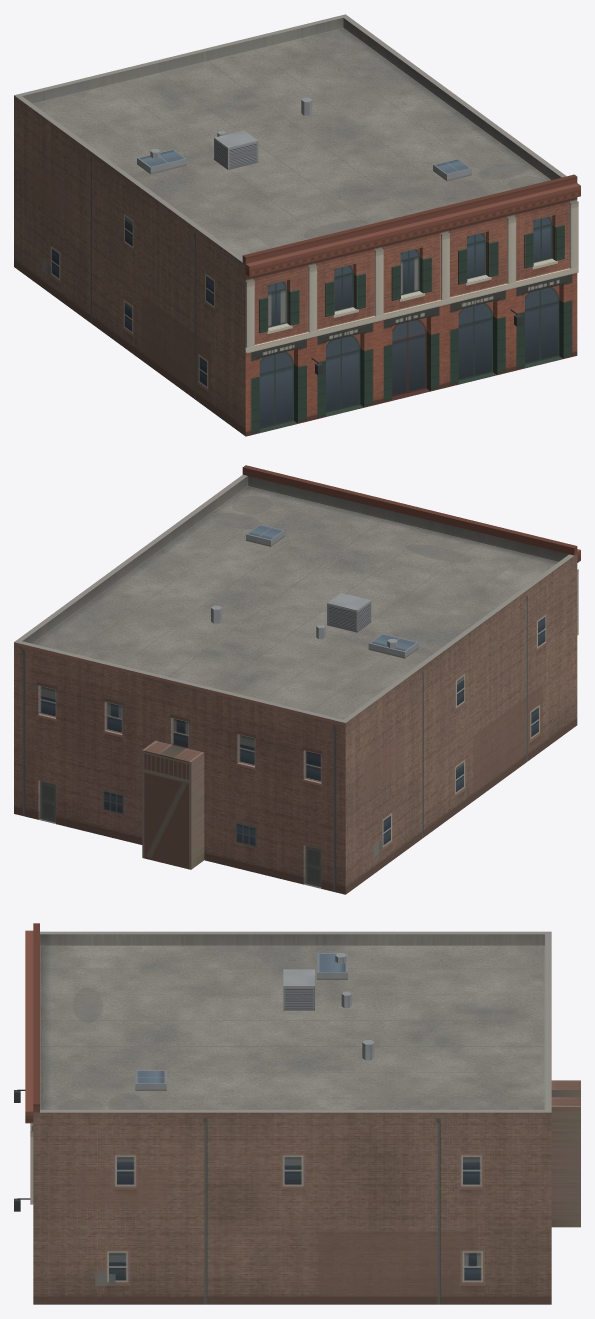
The model's file is sf_brick_c.glb.
3 views of the same model, one above another, from view 1: azimuth 30°, elevation 25°; view 2: azimuth 150°, elevation 25°; view 3: azimuth 270°, elevation 25° (orthographic). The views are drawn at different scales.
Visible parts, largest first — view 1: sf_brick_c; view 2: sf_brick_c; view 3: sf_brick_c.
Boxes of the visible parts, box(x1,y1,x2,y2) form: sf_brick_c: box(14, 14, 580, 436); sf_brick_c: box(14, 465, 580, 894); sf_brick_c: box(14, 923, 580, 1304).
Size of the model in its own units: 19 by 10.06 by 25.15.
Materials: 1 (1 with a texture image).
